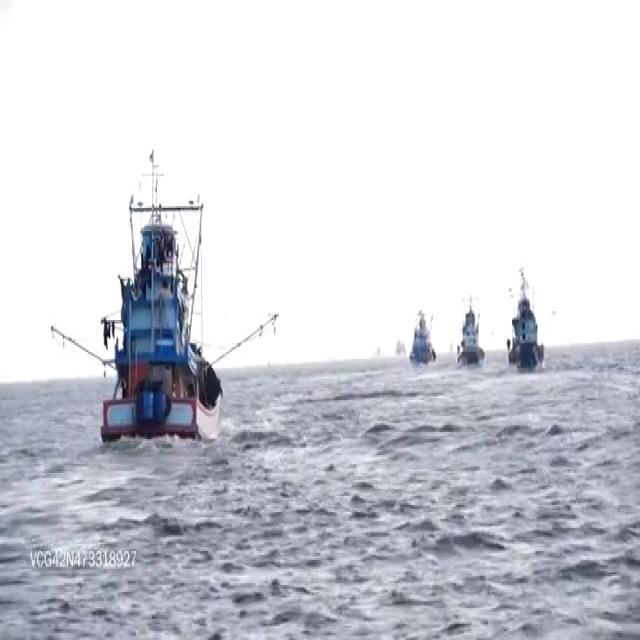fishing boat: (96, 149, 223, 439), (506, 268, 544, 367), (456, 296, 486, 366), (408, 305, 436, 366)
